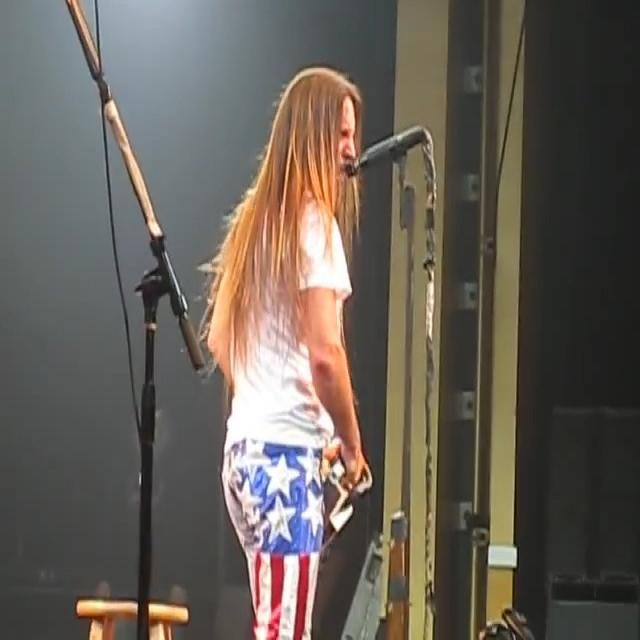Chainsaw: (314, 404, 388, 556)
